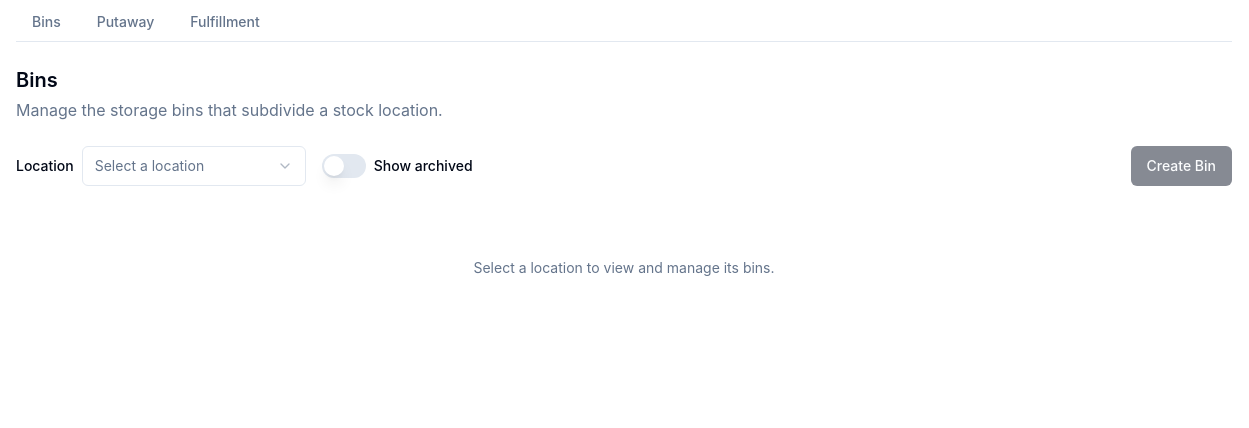
Test case: Bins screen › hides archived bins until the Show archived switch is on
Click the dropdown labelled "location": (194, 166) left=82, top=146, right=306, bottom=186
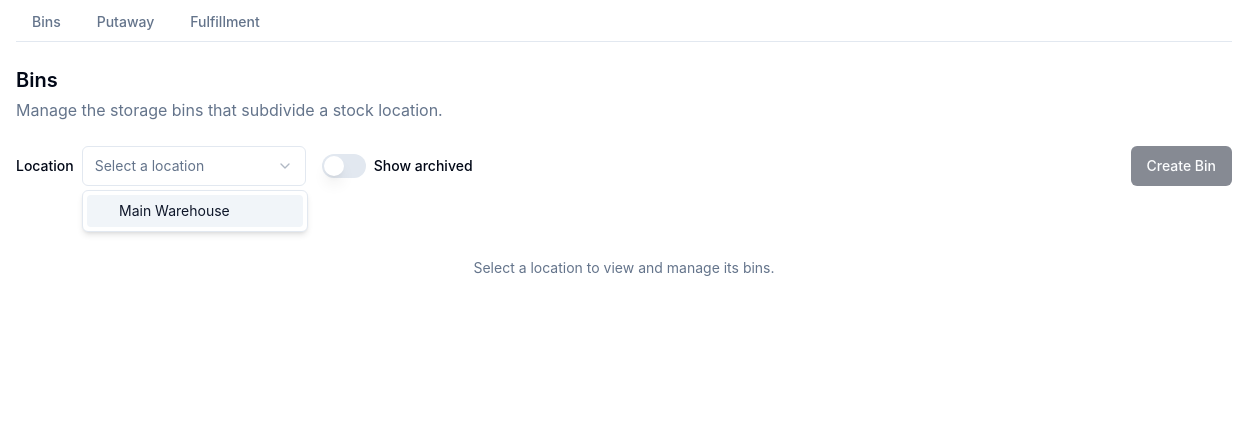
Click the option "Main Warehouse": (195, 211) left=87, top=195, right=303, bottom=227
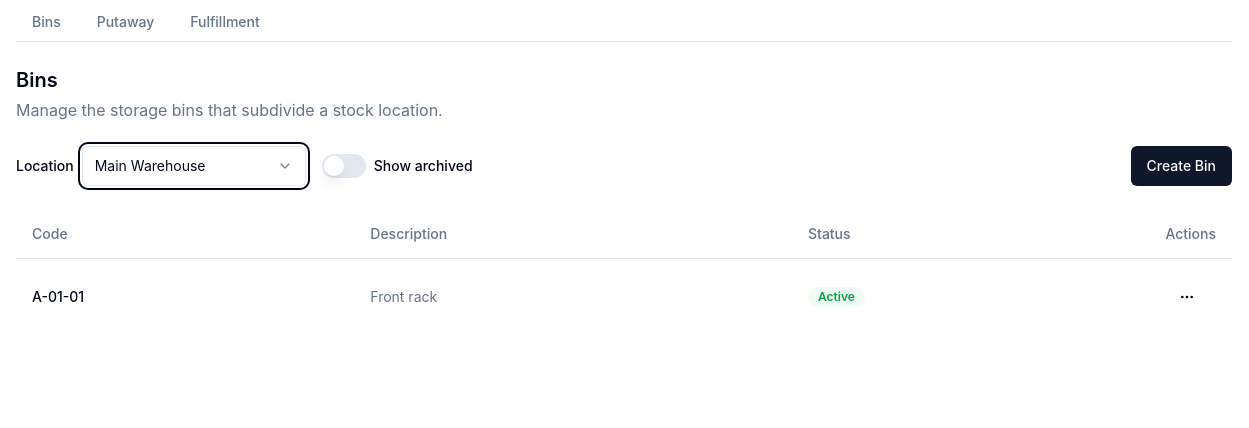
Check: the text "Z-99-99" is not shown
Check: the text "A-01-01" is shown, box left=16, top=258, right=354, bottom=334
Click the switch named "Show archived": (344, 166) left=322, top=154, right=366, bottom=178
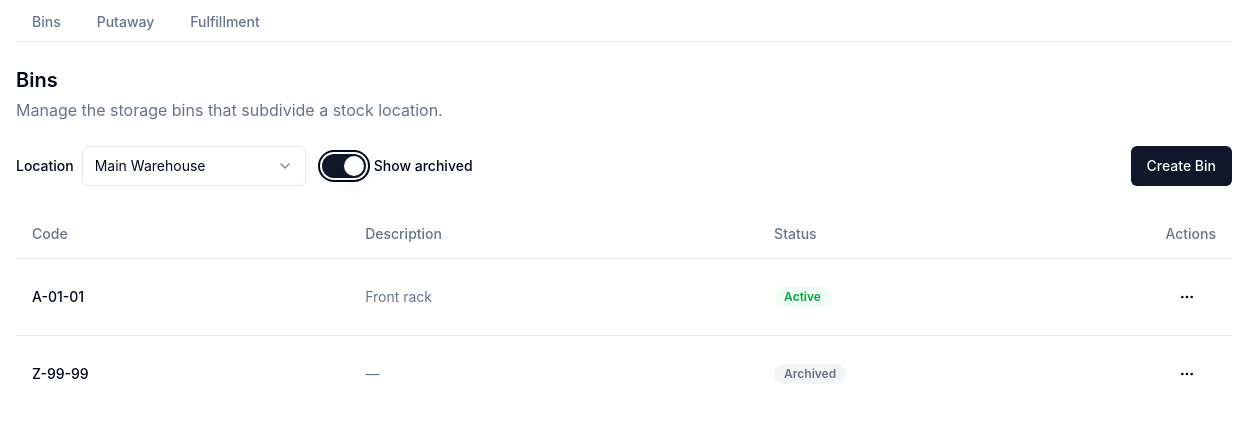
Check: the text "Z-99-99" is shown, box left=16, top=335, right=349, bottom=412
Check: the text "Archived" is shown, box left=774, top=364, right=846, bottom=384
